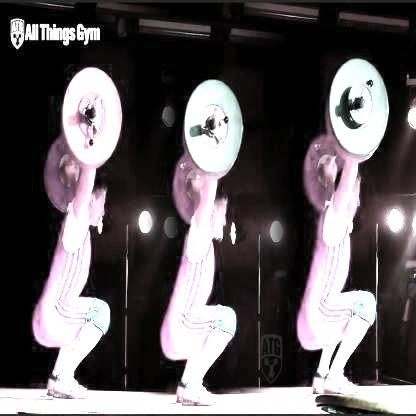Barbell: (91, 96, 103, 114), (212, 108, 223, 125), (361, 88, 372, 103)
